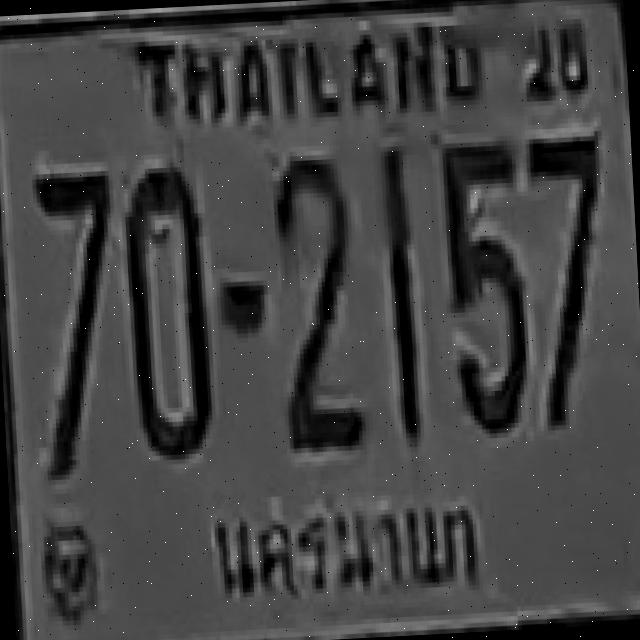0: (121, 163, 213, 460)
1: (378, 144, 421, 399)
2: (270, 151, 360, 414)
5: (438, 136, 530, 432)
7: (523, 129, 610, 410), (523, 129, 608, 372), (32, 166, 118, 372), (32, 164, 116, 337)
NakhonNayok: (200, 486, 498, 610)
